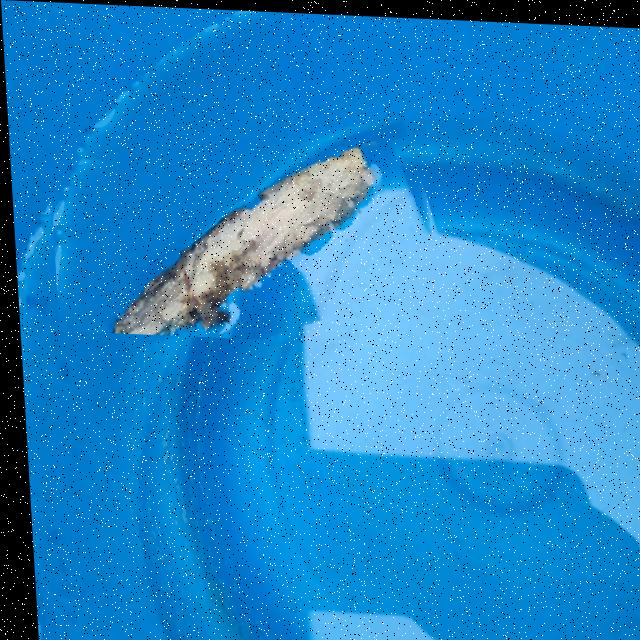wood: (45, 120, 443, 344)
